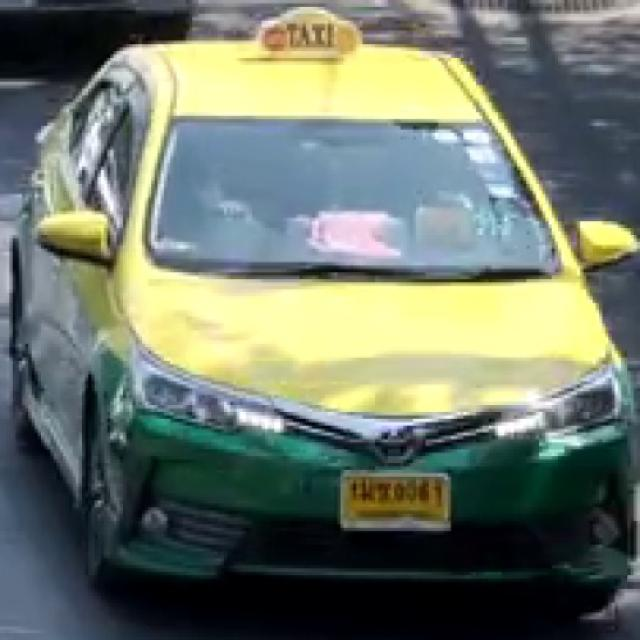plate: (346, 470, 452, 530)
